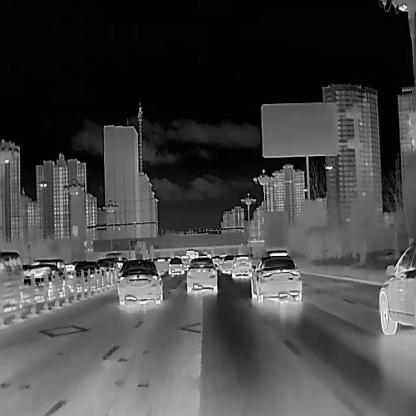car: (378, 240, 415, 335), (247, 255, 302, 302), (116, 258, 162, 304), (21, 263, 67, 303), (0, 250, 23, 311), (66, 261, 102, 292), (186, 256, 216, 291), (231, 254, 253, 278), (96, 258, 116, 282), (167, 256, 184, 275), (220, 252, 234, 274)
truck: (186, 249, 194, 260)
